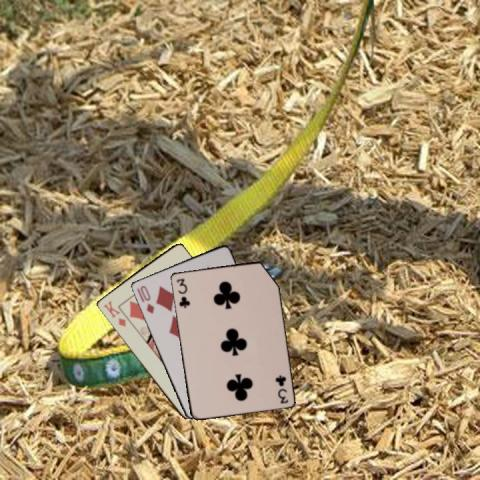10d: (137, 282, 155, 315)
3c: (173, 276, 191, 310), (273, 372, 290, 405)
Kd: (100, 297, 127, 328)
